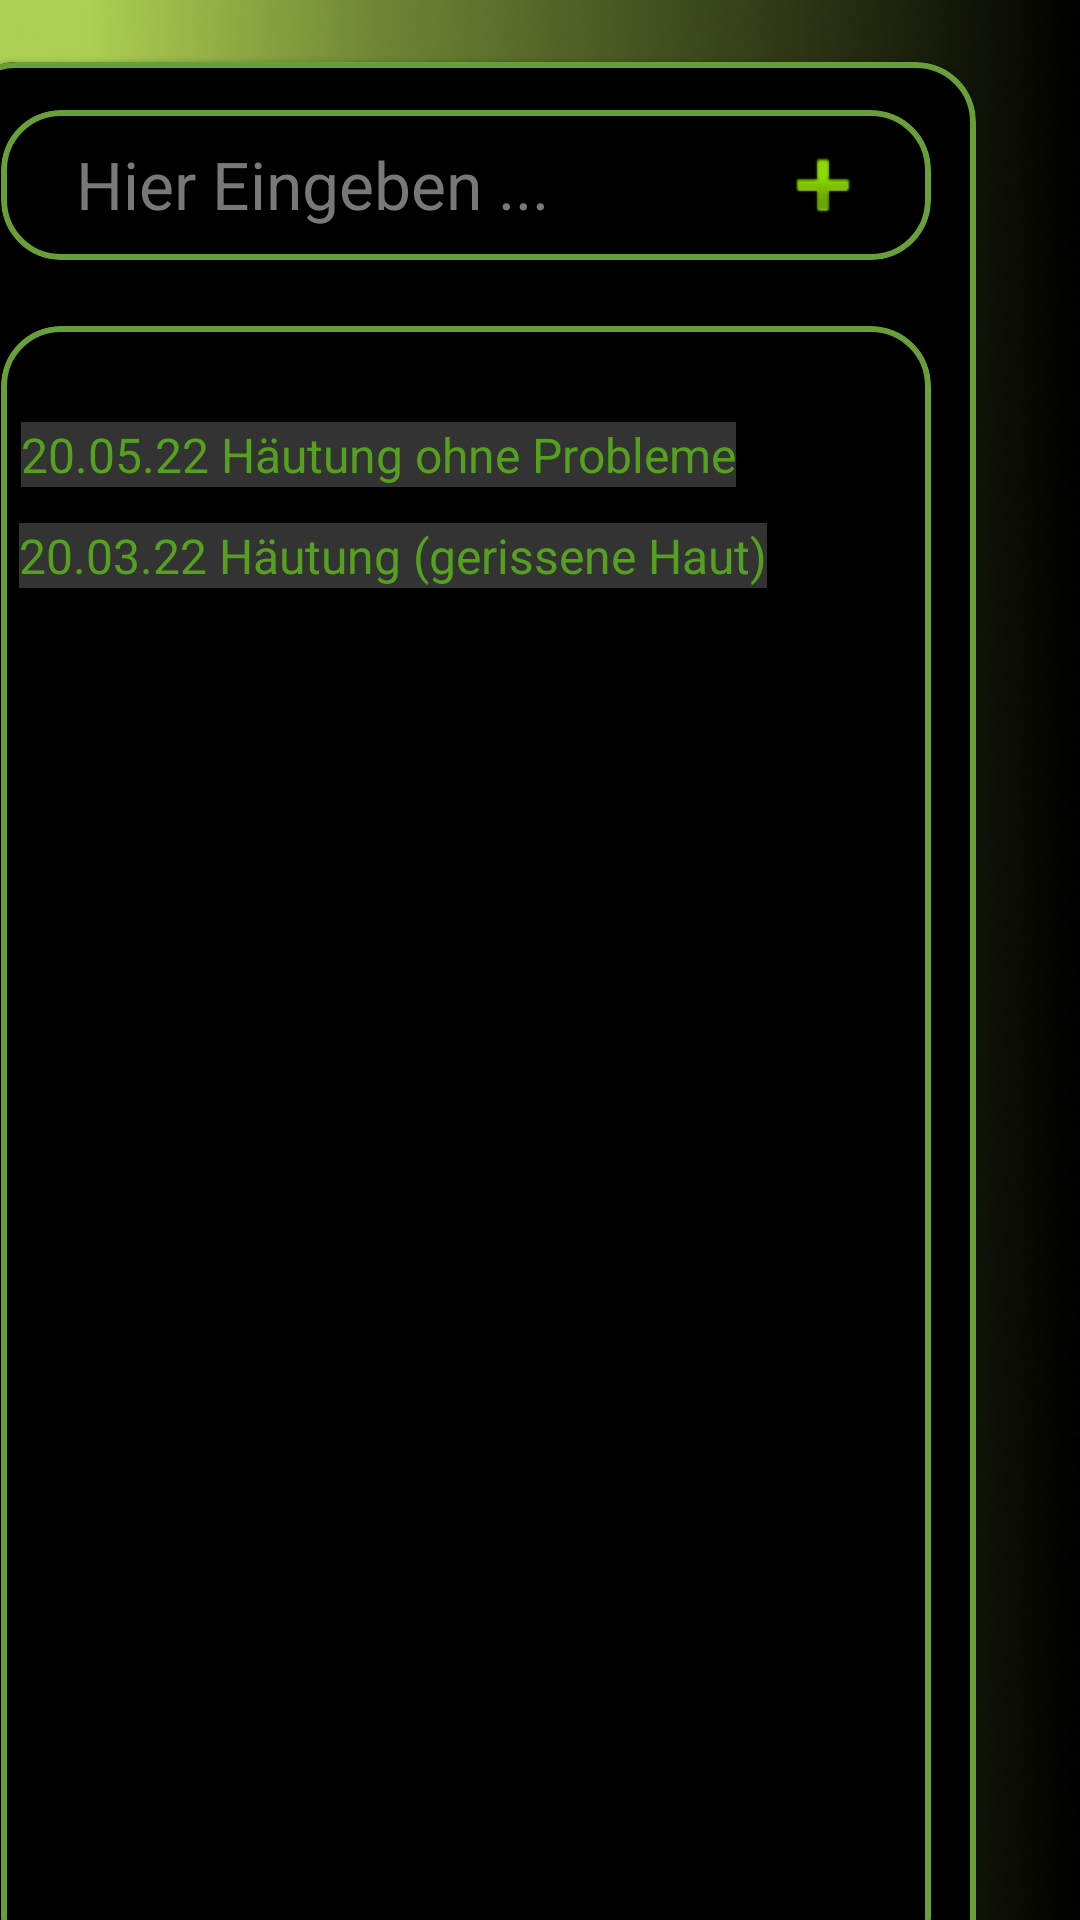

Point at icon controls on the screen. Image size 1080 x 1920, points as point (x, y).
add: point (823, 185)
